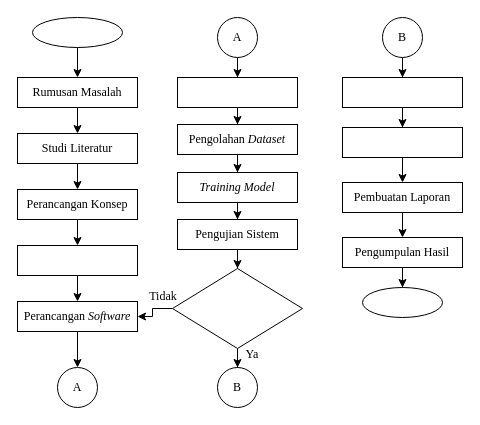
This 480x425 diagram has some shape labels left out. Each missing label, with the box of its shape:
Analisis Data: (342, 126, 462, 158)
Mulai: (32, 16, 122, 48)
Pengambilan Data: (342, 76, 462, 108)
Pengumpulan Dataset: (176, 76, 298, 108)
Perancangan Hardware: (16, 244, 138, 276)
Selesai: (362, 286, 442, 318)
Sistem Bekerja Dengan Baik?: (172, 268, 302, 348)
